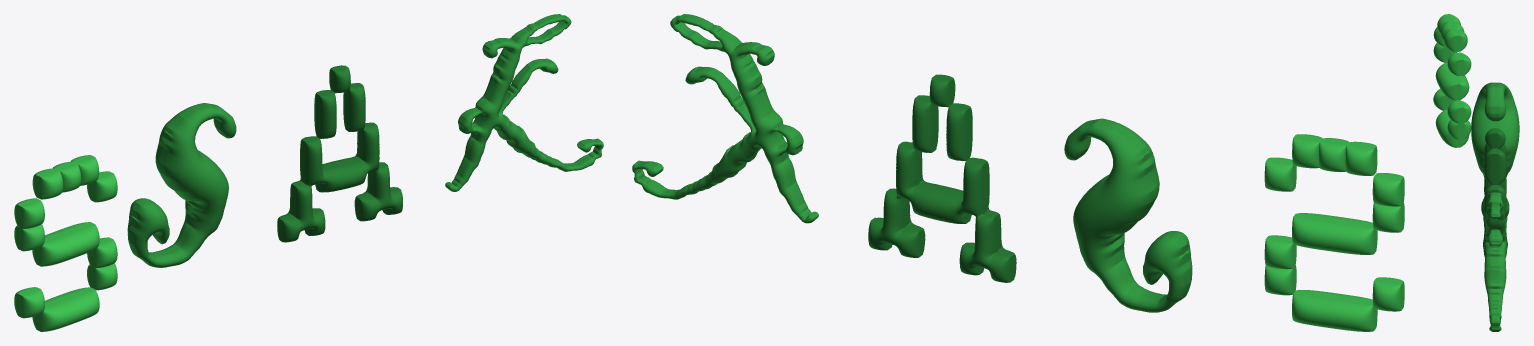
3 views of the same model, side by side, from view 1: azimuth 30°, elevation 25°; view 2: azimuth 150°, elevation 25°; view 3: azimuth 270°, elevation 25° (orthographic). The views are drawn at different scales.
Parts seen in each view (by area): view 1: Mesh_12.002, Mesh_0.002, Mesh_1.002, Mesh_2.002; view 2: Mesh_12.002, Mesh_0.002, Mesh_1.002, Mesh_2.002; view 3: Mesh_12.002, Mesh_1.002, Mesh_2.002, Mesh_0.002.
Part boxes in pixels (<box>): Mesh_12.002: <box>14,155,117,331</box>; Mesh_0.002: <box>277,65,402,242</box>; Mesh_1.002: <box>127,103,236,267</box>; Mesh_2.002: <box>445,14,603,191</box>; Mesh_12.002: <box>1264,134,1404,331</box>; Mesh_0.002: <box>868,74,1016,282</box>; Mesh_1.002: <box>1064,118,1192,312</box>; Mesh_2.002: <box>632,14,818,223</box>; Mesh_12.002: <box>1433,14,1471,147</box>; Mesh_1.002: <box>1471,82,1519,177</box>; Mesh_2.002: <box>1484,192,1506,331</box>; Mesh_0.002: <box>1481,128,1509,257</box>.
Bounding box in the file's own units: 0.3883 × 0.095 × 0.0648.
